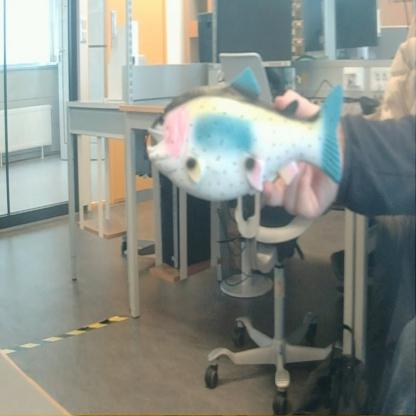rubberfish: (144, 64, 347, 208)
